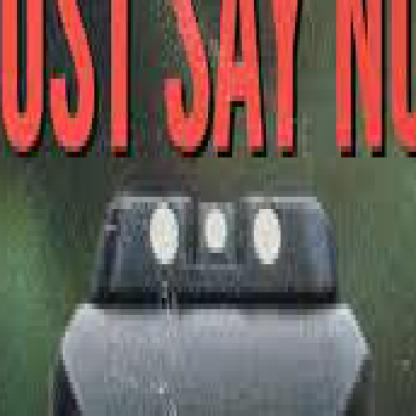gun: (34, 180, 389, 410)
